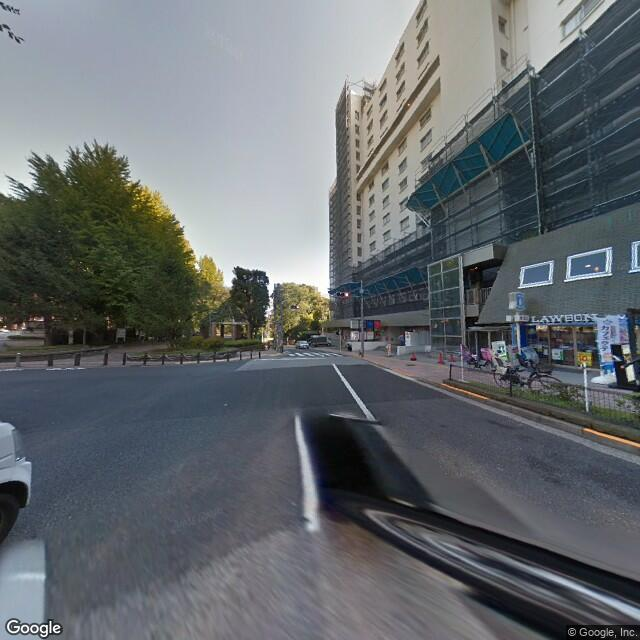lawson: (521, 307, 595, 331)
